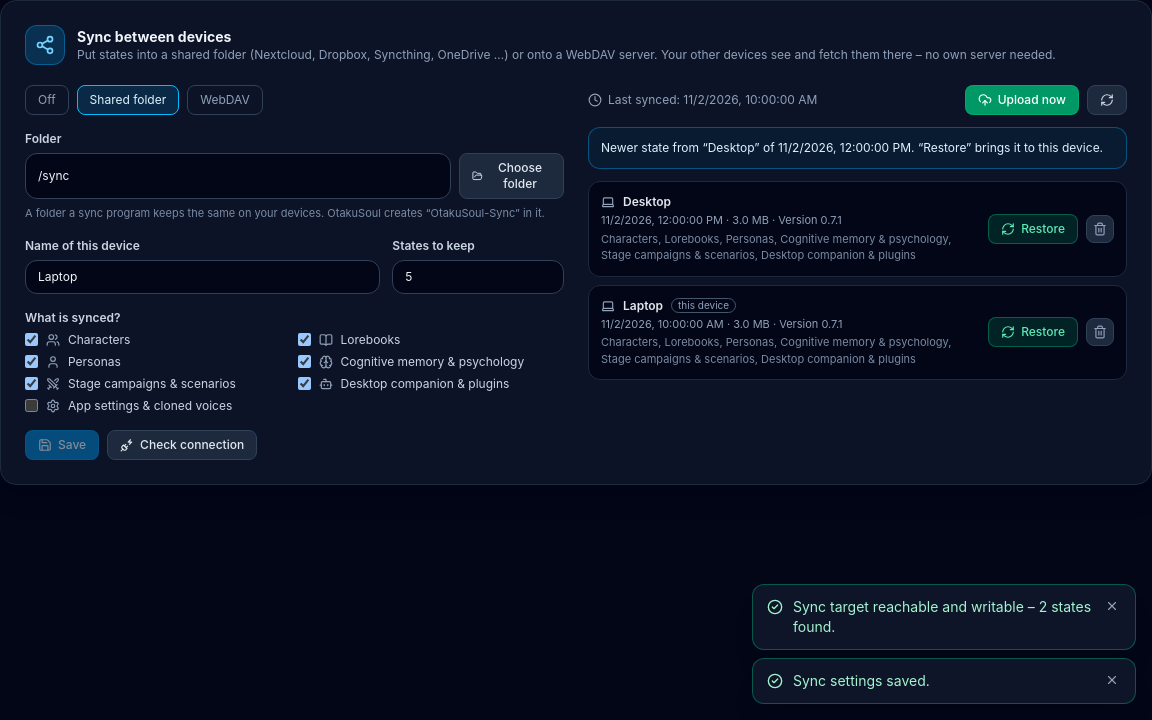
Test case: SyncPanel › lists the states, shows a newer one and restores it
Expected: the message with test id "sync-newer" shows "Newer state from “Desktop”", [601,140,1103,155]
Expected: the number of list items is 2, [588,181,1127,276]; [588,284,1127,380]
Click the 1st button "Restore" at (1033,229), box [988,214,1078,244]
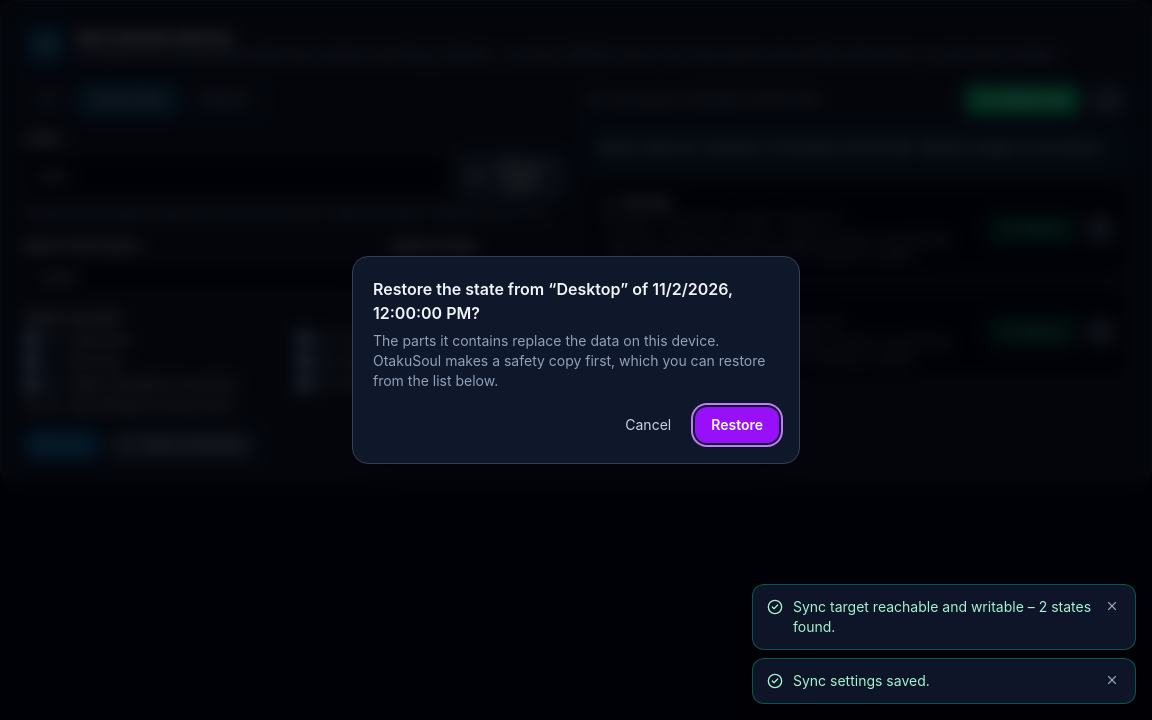
Click the button "Restore" at (737,425), box [695,407,779,443]
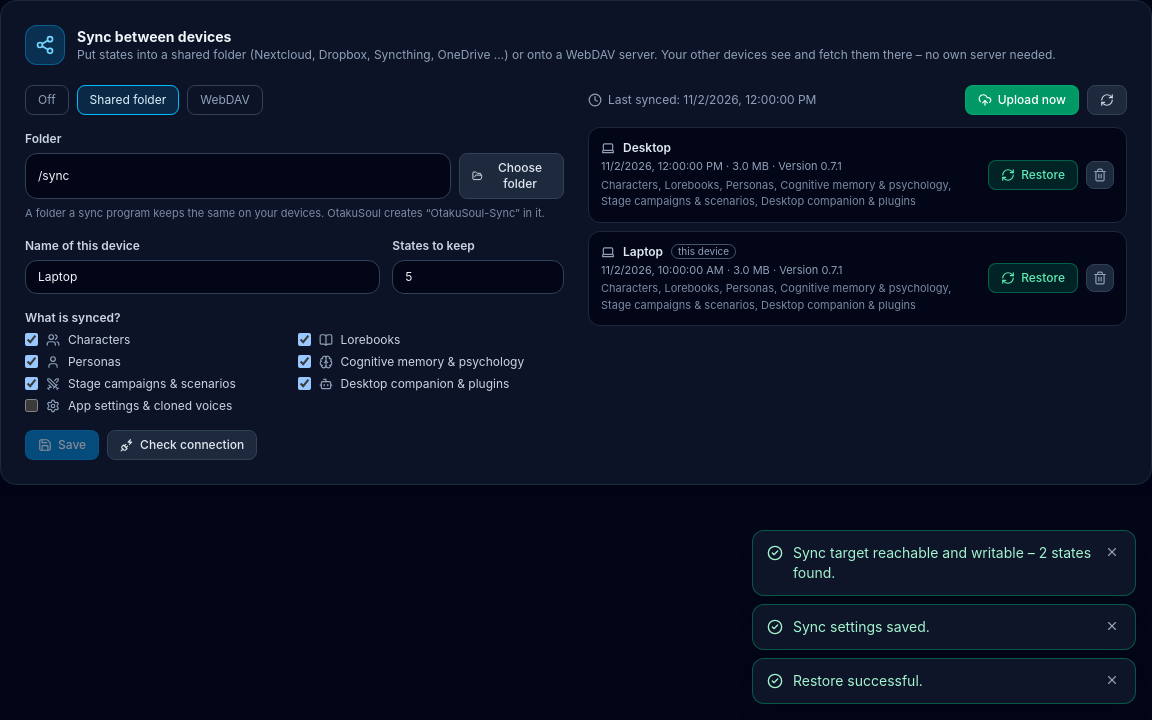
Expected: the message with test id "sync-newer" is gone
